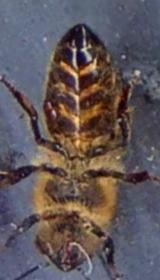varroa_mite: (33, 93, 68, 131)
